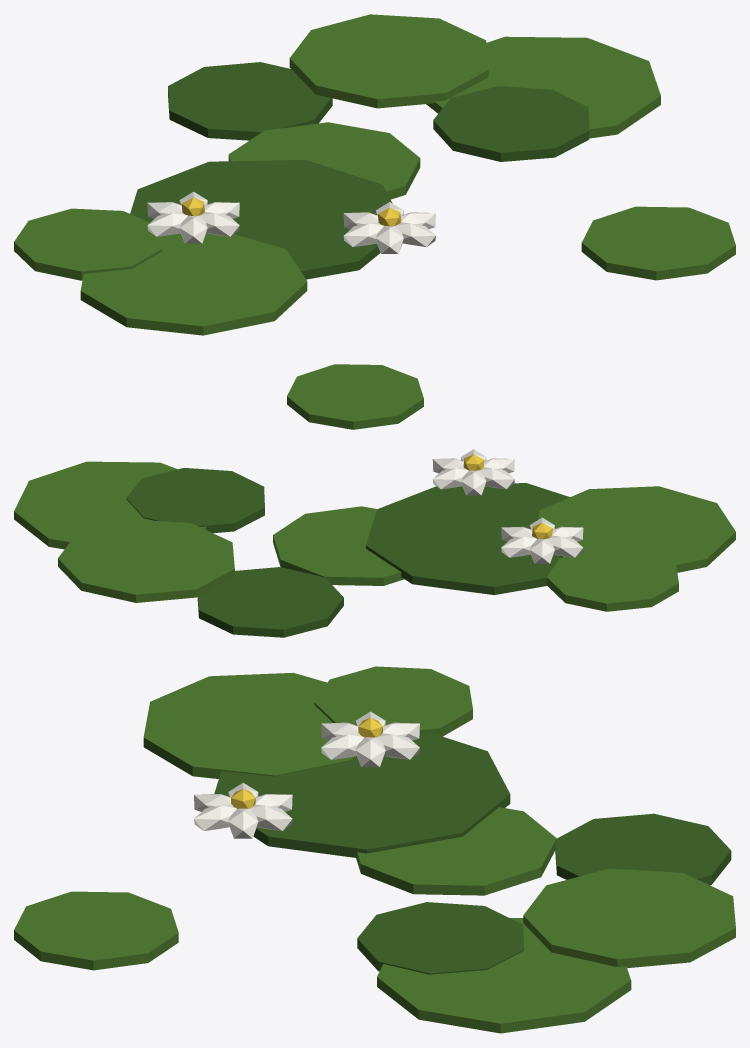
The model's file is forest_lilypads.glb.
The picture shows the model from 3 angles, top to bottom: view 1: azimuth 30°, elevation 25°; view 2: azimuth 150°, elevation 25°; view 3: azimuth 270°, elevation 25°; orthographic projection. The views are drawn at different scales.
Parts seen in each view (by area): view 1: forest_lilypads; view 2: forest_lilypads; view 3: forest_lilypads.
Boxes of the visible parts, bbox=[...] form: forest_lilypads: bbox=[14, 14, 735, 335]; forest_lilypads: bbox=[14, 364, 735, 637]; forest_lilypads: bbox=[14, 666, 735, 1033].
Size of the model in its own units: 2.3 by 0.15 by 2.
